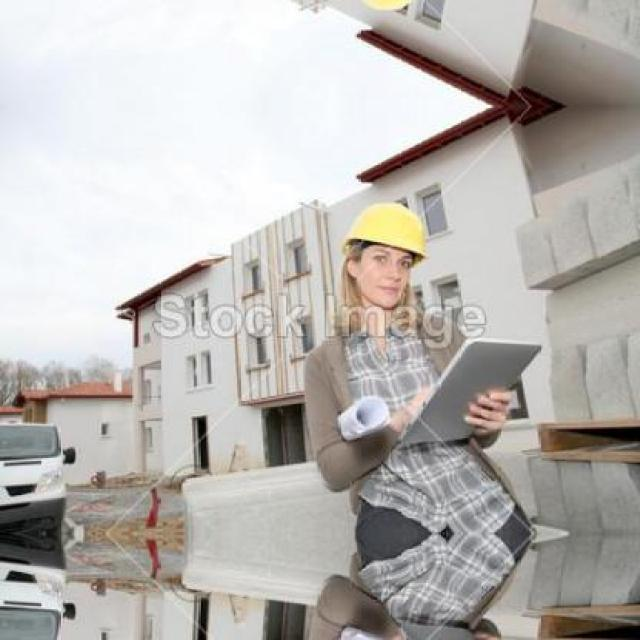helmet: (332, 187, 428, 311), (331, 0, 429, 26)
